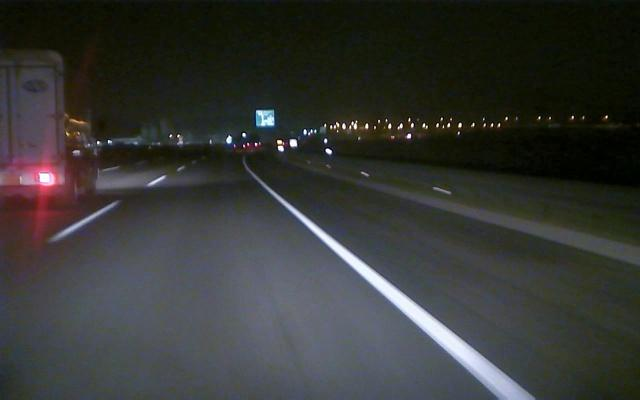lane: (262, 186, 537, 399), (45, 201, 118, 244)
